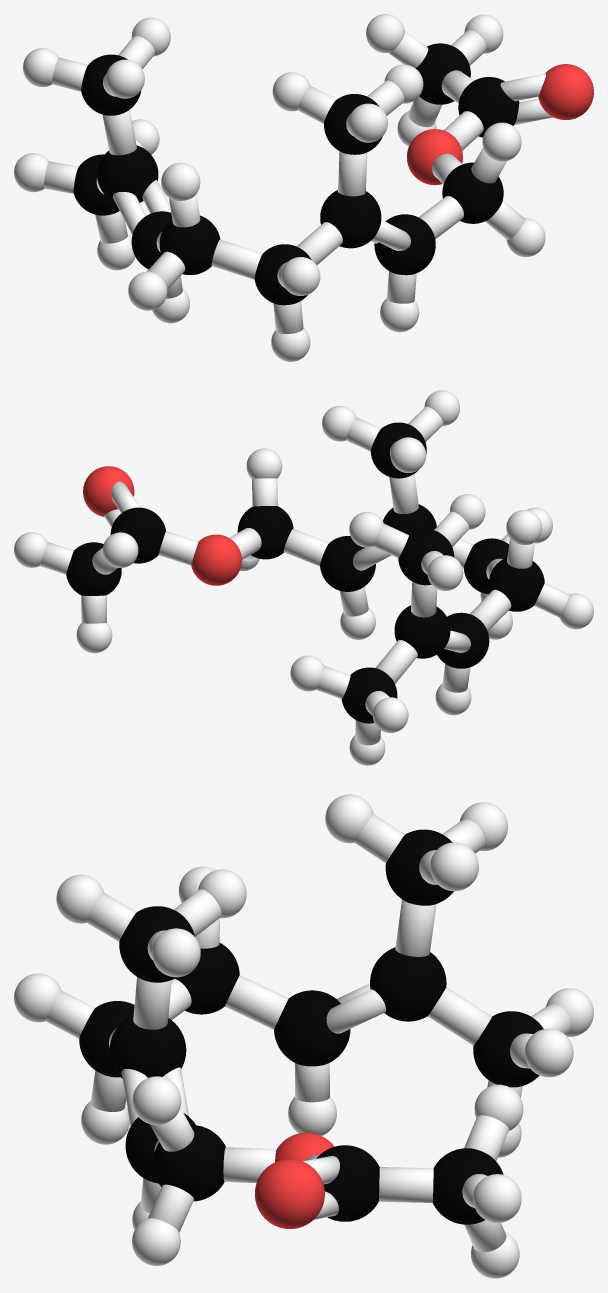
3 views of the same model, one above another, from view 1: azimuth 30°, elevation 25°; view 2: azimuth 150°, elevation 25°; view 3: azimuth 270°, elevation 25° (orthographic). The views are drawn at different scales.
Parts seen in each view (by area): view 1: molecule; view 2: molecule; view 3: molecule.
Part boxes in pixels (x1,y1,x2,y2): molecule: (14,14,593,361); molecule: (14,390,593,765); molecule: (14,794,593,1278).
Bounding box in the file's own units: 8.96 × 4.47 × 7.12.
